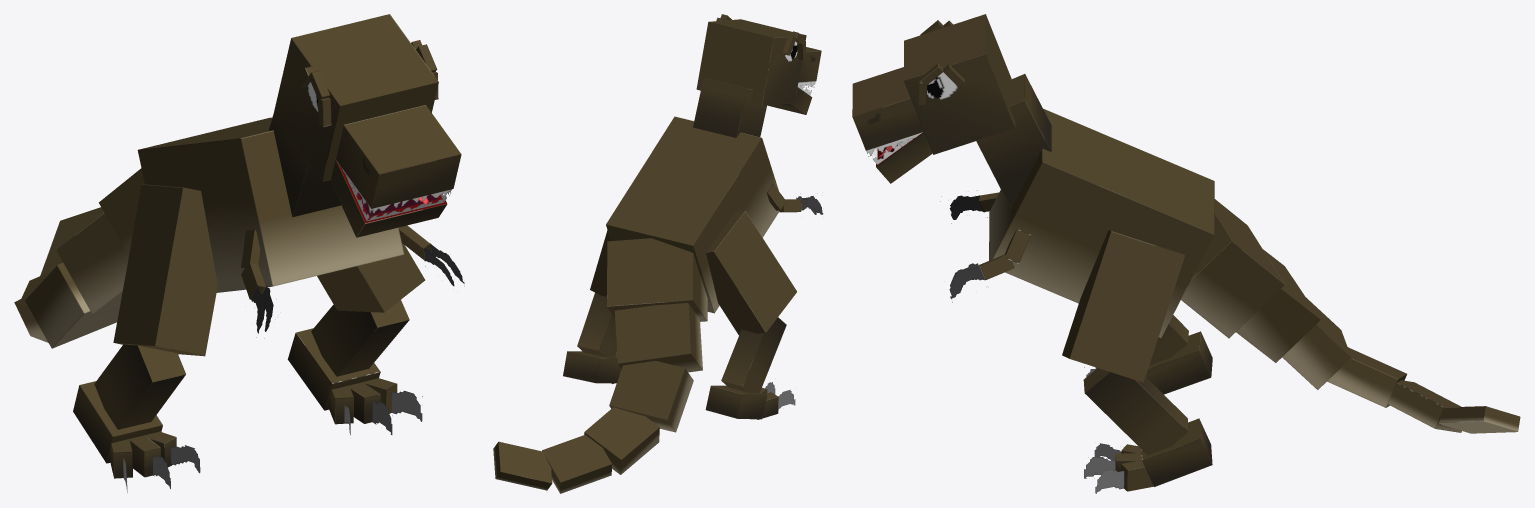
File: animateddinosaur22.obj
3 views of the same model, side by side, from view 1: azimuth 30°, elevation 25°; view 2: azimuth 150°, elevation 25°; view 3: azimuth 270°, elevation 25° (orthographic). The views are drawn at different scales.
Parts seen in each view (by area): view 1: Object_6, Object_64, Object_9, Object_56, Object_12, Object_34, Object_95, Object_31, Object_98, Object_53, Object_79, Object_37 (+15 smaller); view 2: Object_6, Object_9, Object_64, Object_92, Object_95, Object_98, Object_53, Object_101, Object_12, Object_104, Object_107, Object_34 (+5 smaller); view 3: Object_6, Object_31, Object_64, Object_92, Object_34, Object_53, Object_56, Object_95, Object_98, Object_37, Object_101, Object_15 (+5 smaller).
Boxes of the visible parts, bbox=[...] form: Object_6: bbox=[137, 117, 404, 292]; Object_64: bbox=[273, 14, 438, 181]; Object_9: bbox=[113, 184, 217, 356]; Object_56: bbox=[335, 105, 461, 208]; Object_12: bbox=[94, 344, 185, 429]; Object_34: bbox=[311, 300, 409, 376]; Object_95: bbox=[56, 213, 128, 314]; Object_31: bbox=[317, 243, 425, 312]; Object_98: bbox=[24, 263, 119, 348]; Object_53: bbox=[268, 114, 340, 217]; Object_79: bbox=[330, 160, 447, 237]; Object_37: bbox=[287, 328, 380, 410]; Object_6: bbox=[606, 116, 779, 313]; Object_9: bbox=[706, 210, 796, 334]; Object_64: bbox=[696, 19, 806, 105]; Object_92: bbox=[607, 238, 707, 321]; Object_95: bbox=[614, 303, 702, 372]; Object_98: bbox=[609, 361, 693, 432]; Object_53: bbox=[693, 78, 766, 137]; Object_101: bbox=[584, 407, 659, 474]; Object_12: bbox=[721, 317, 786, 393]; Object_104: bbox=[542, 435, 612, 493]; Object_107: bbox=[493, 441, 552, 490]; Object_34: bbox=[577, 292, 616, 357]; Object_6: bbox=[989, 108, 1214, 338]; Object_31: bbox=[1062, 230, 1185, 382]; Object_64: bbox=[904, 14, 1015, 154]; Object_92: bbox=[1181, 199, 1284, 338]; Object_34: bbox=[1083, 368, 1188, 454]; Object_53: bbox=[976, 74, 1051, 208]; Object_56: bbox=[852, 67, 923, 150]; Object_95: bbox=[1236, 249, 1320, 362]; Object_98: bbox=[1282, 297, 1351, 389]; Object_37: bbox=[1141, 418, 1212, 486]; Object_101: bbox=[1327, 347, 1406, 407]; Object_15: bbox=[1145, 331, 1212, 394].
Size of the model in its own units: 2.25 by 3.53 by 5.28.
